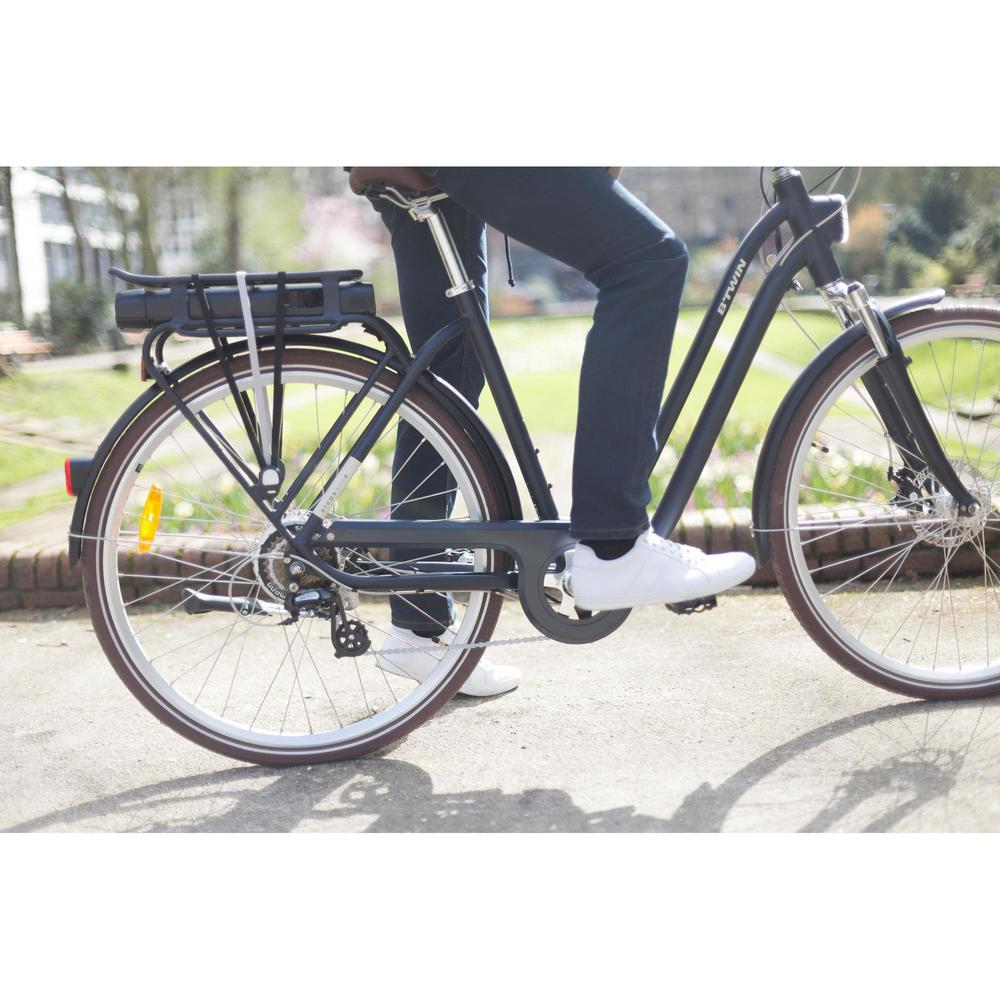UrbanBike: (62, 159, 955, 756)
